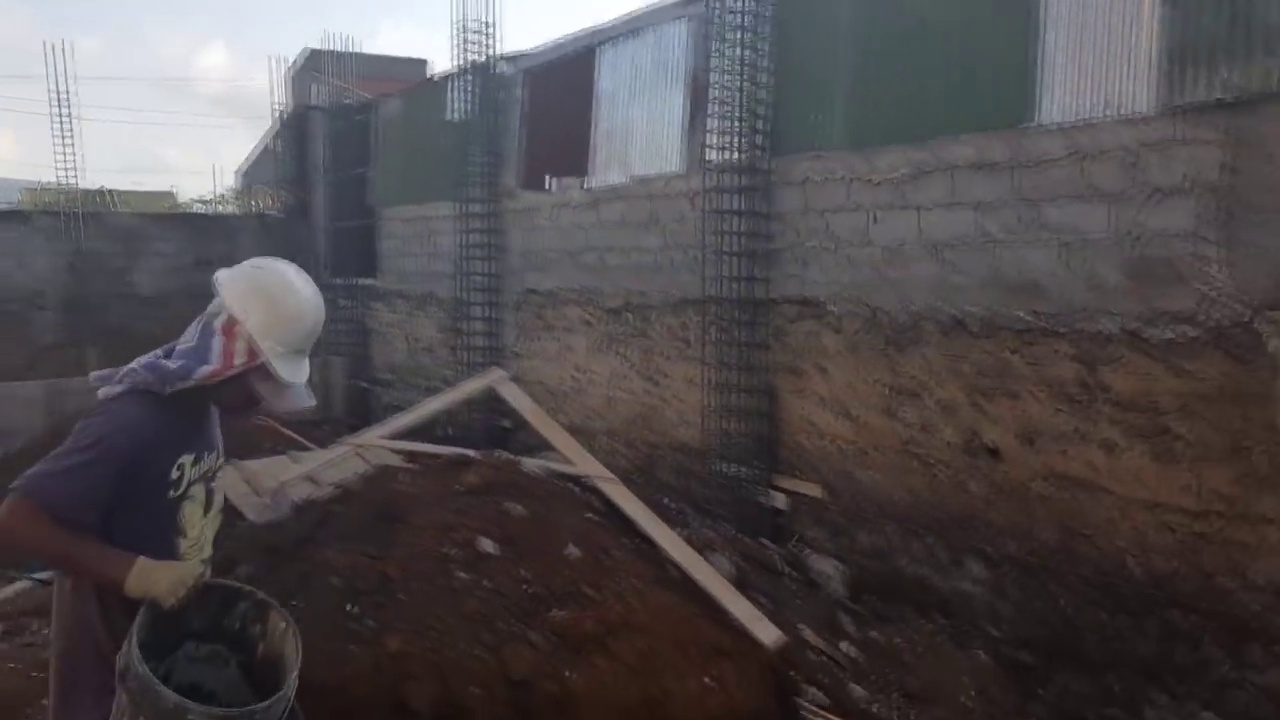helmet: (207, 254, 325, 386)
helmet-on: (182, 257, 327, 404)
person: (0, 257, 328, 716)
